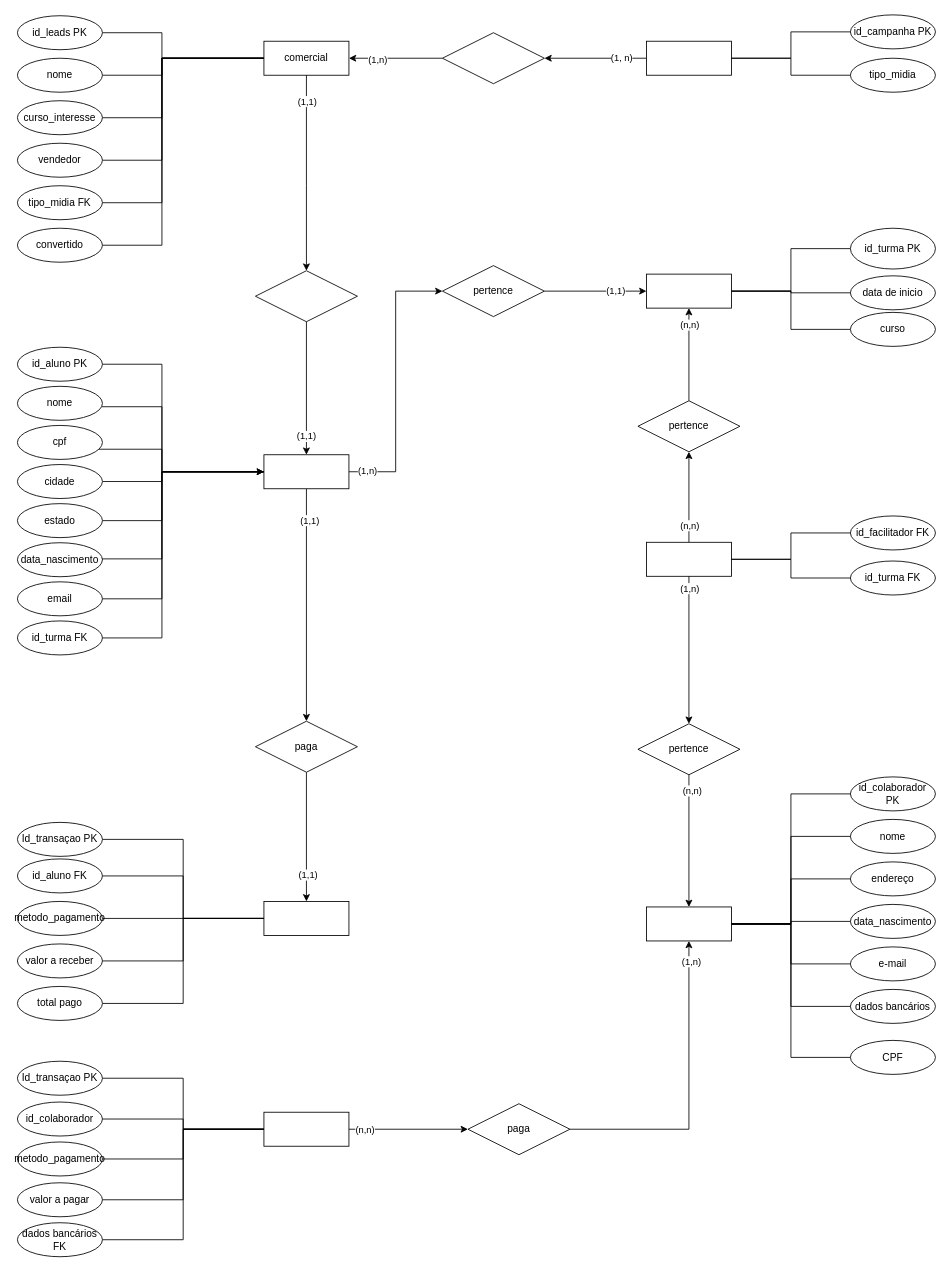
Some shapes in this 950 by 1272 pixel diagram are drawn without their labels. The shapes that lost their labels are listed below. From the top down, each one's centre as x and y in pixels, then its label:
pixel 493 58: gera
pixel 688 57: Marketing
pixel 306 296: matricula
pixel 688 290: tb_turma
pixel 306 471: tb_aluno
pixel 688 558: facilitadores
pixel 306 918: contas a receber
pixel 688 923: DP
pixel 306 1128: contas a pagar
